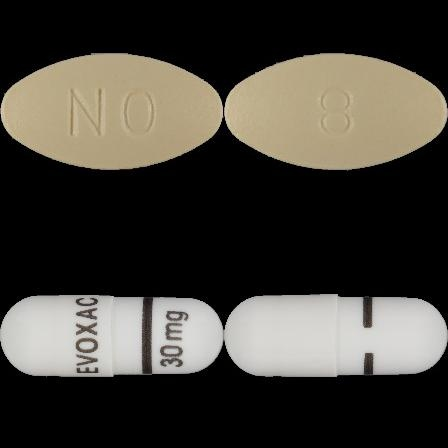63304-459: (0, 0, 224, 224)
